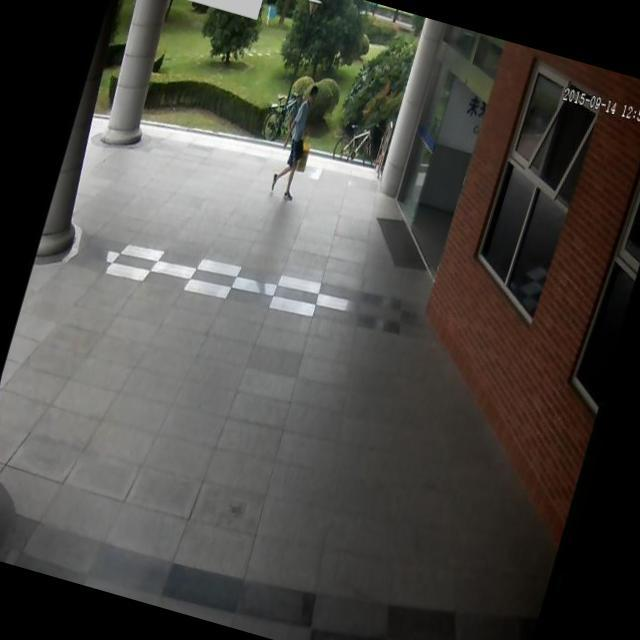person: (256, 55, 340, 215)
